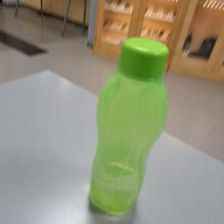bottle: (88, 35, 172, 217)
